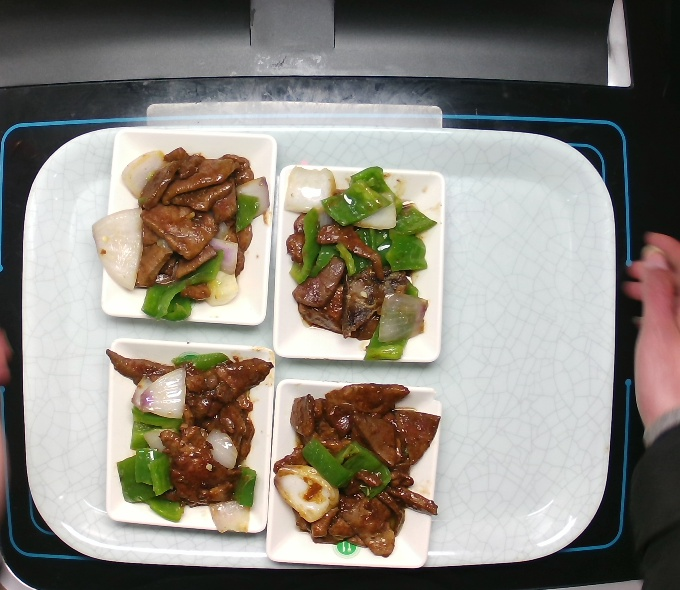wcq-ZhuGan: (276, 165, 446, 373), (86, 143, 273, 323), (104, 342, 273, 535), (271, 380, 439, 562)
